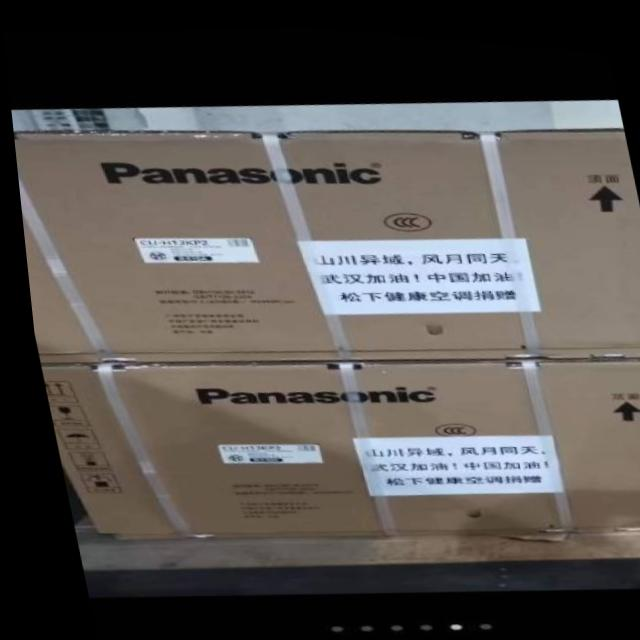box: (11, 117, 640, 361), (34, 348, 640, 538)
